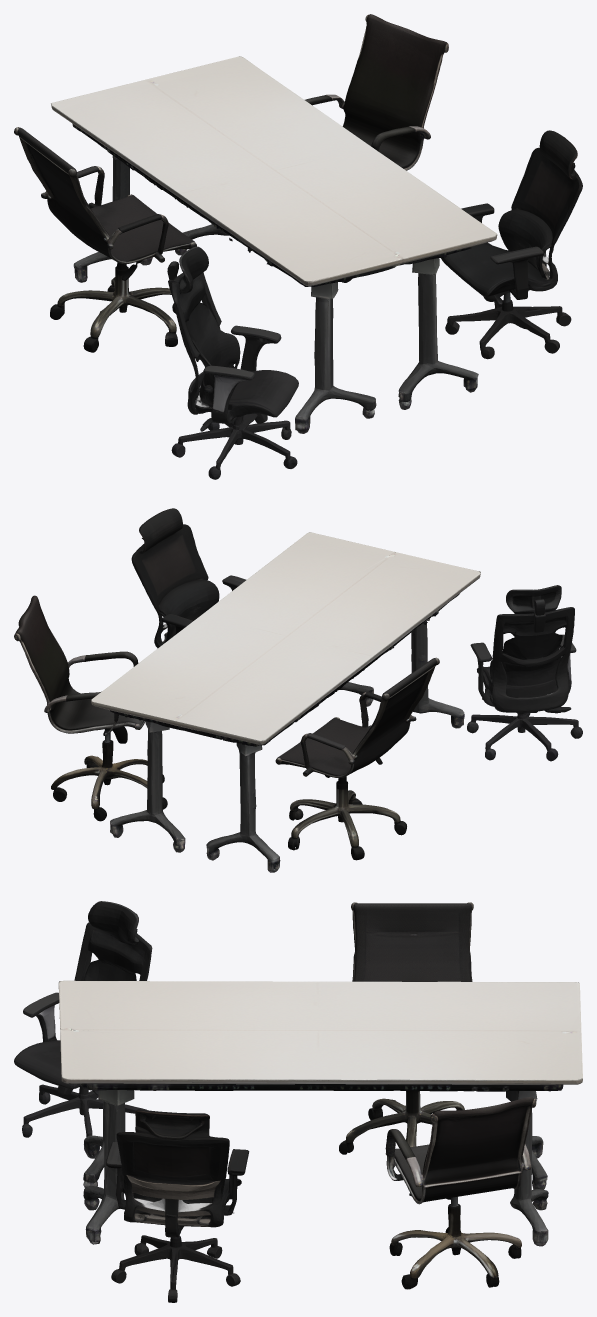
The model's file is real-2.glb.
3 views of the same model, one above another, from view 1: azimuth 30°, elevation 25°; view 2: azimuth 150°, elevation 25°; view 3: azimuth 270°, elevation 25° (orthographic). The views are drawn at different scales.
Parts seen in each view (by area): view 1: mesh_3; view 2: mesh_3; view 3: mesh_3.
Part boxes in pixels (x1,y1,x2,y2): mesh_3: (14, 14, 582, 479); mesh_3: (14, 508, 582, 872); mesh_3: (14, 901, 582, 1302).
Bounding box in the file's own units: 4.62 × 2.01 × 4.99.
Materials: 5 (5 with a texture image).
